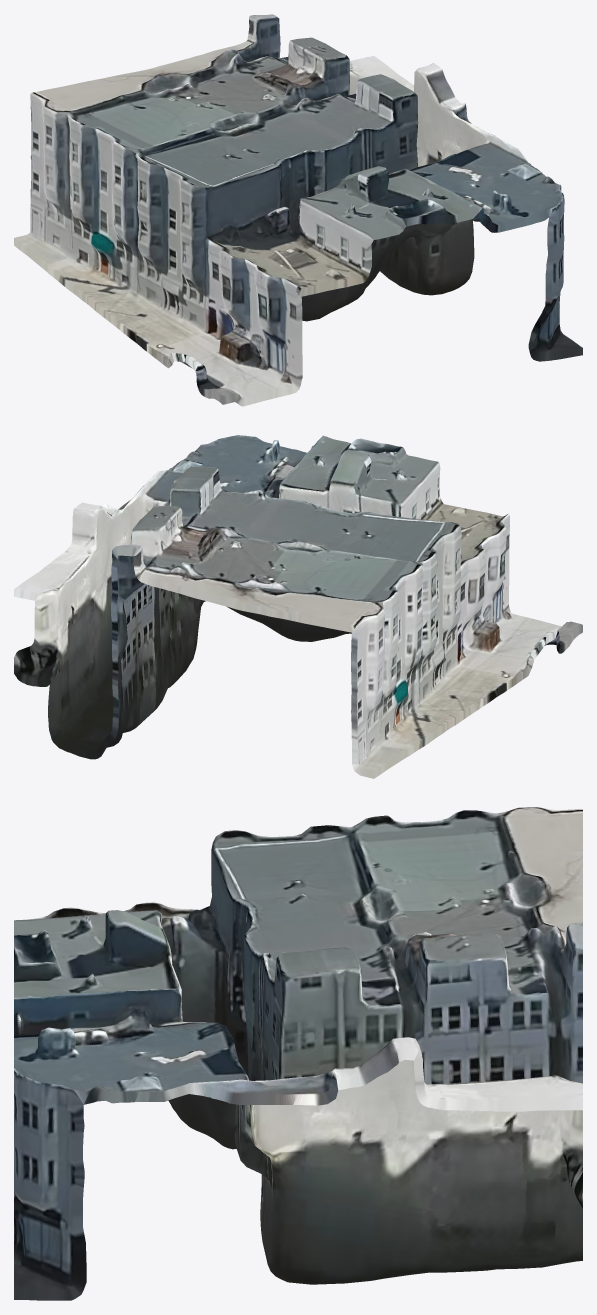
Rendered from z20-167733-405196-h0-yup-uvflip-v3-world.glb.
3 views of the same model, one above another, from view 1: azimuth 30°, elevation 25°; view 2: azimuth 150°, elevation 25°; view 3: azimuth 270°, elevation 25° (orthographic). The views are drawn at different scales.
Bounding box in the file's own units: 30.16 × 17.76 × 30.32.
1 material, 1 textured.
